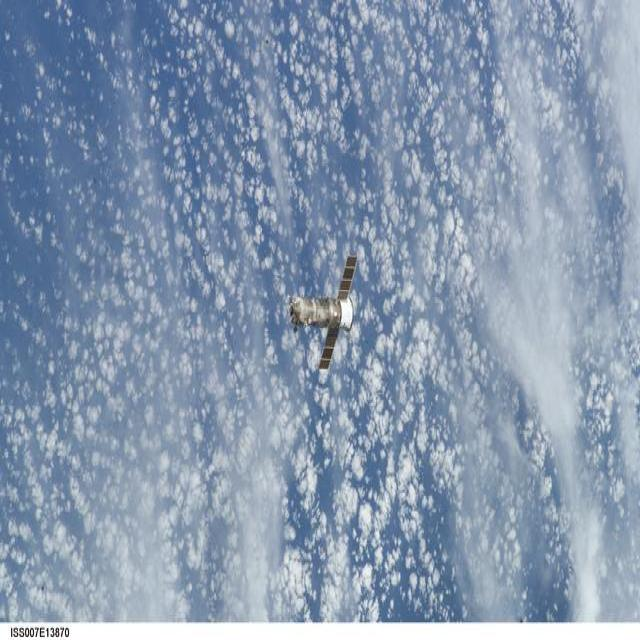satellite: (290, 256, 356, 371)
